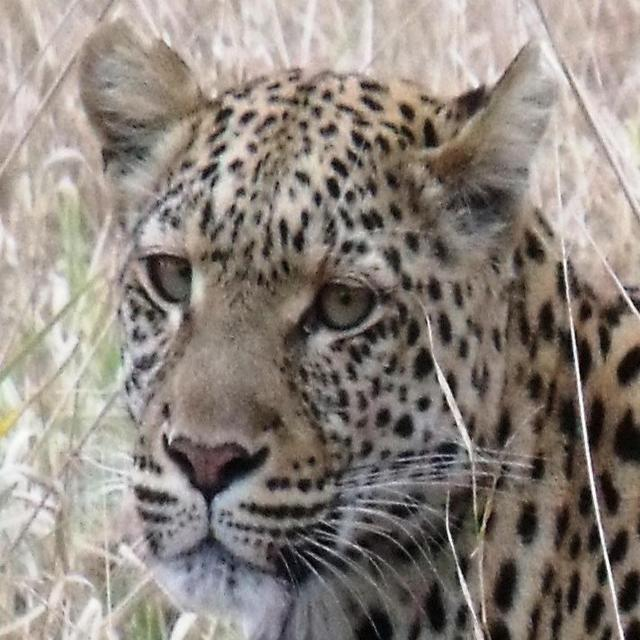Leopard: (73, 22, 638, 640)
